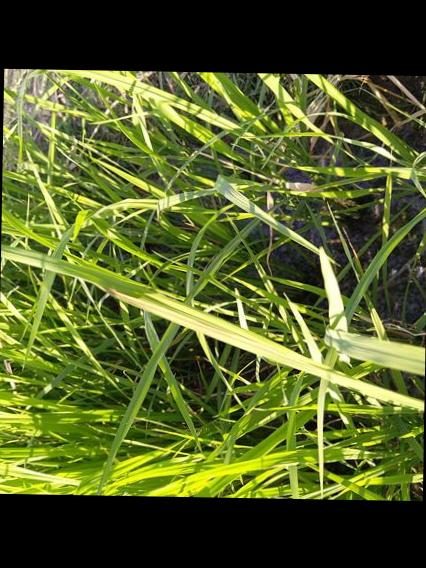Leaf Blight: (99, 283, 240, 336)
